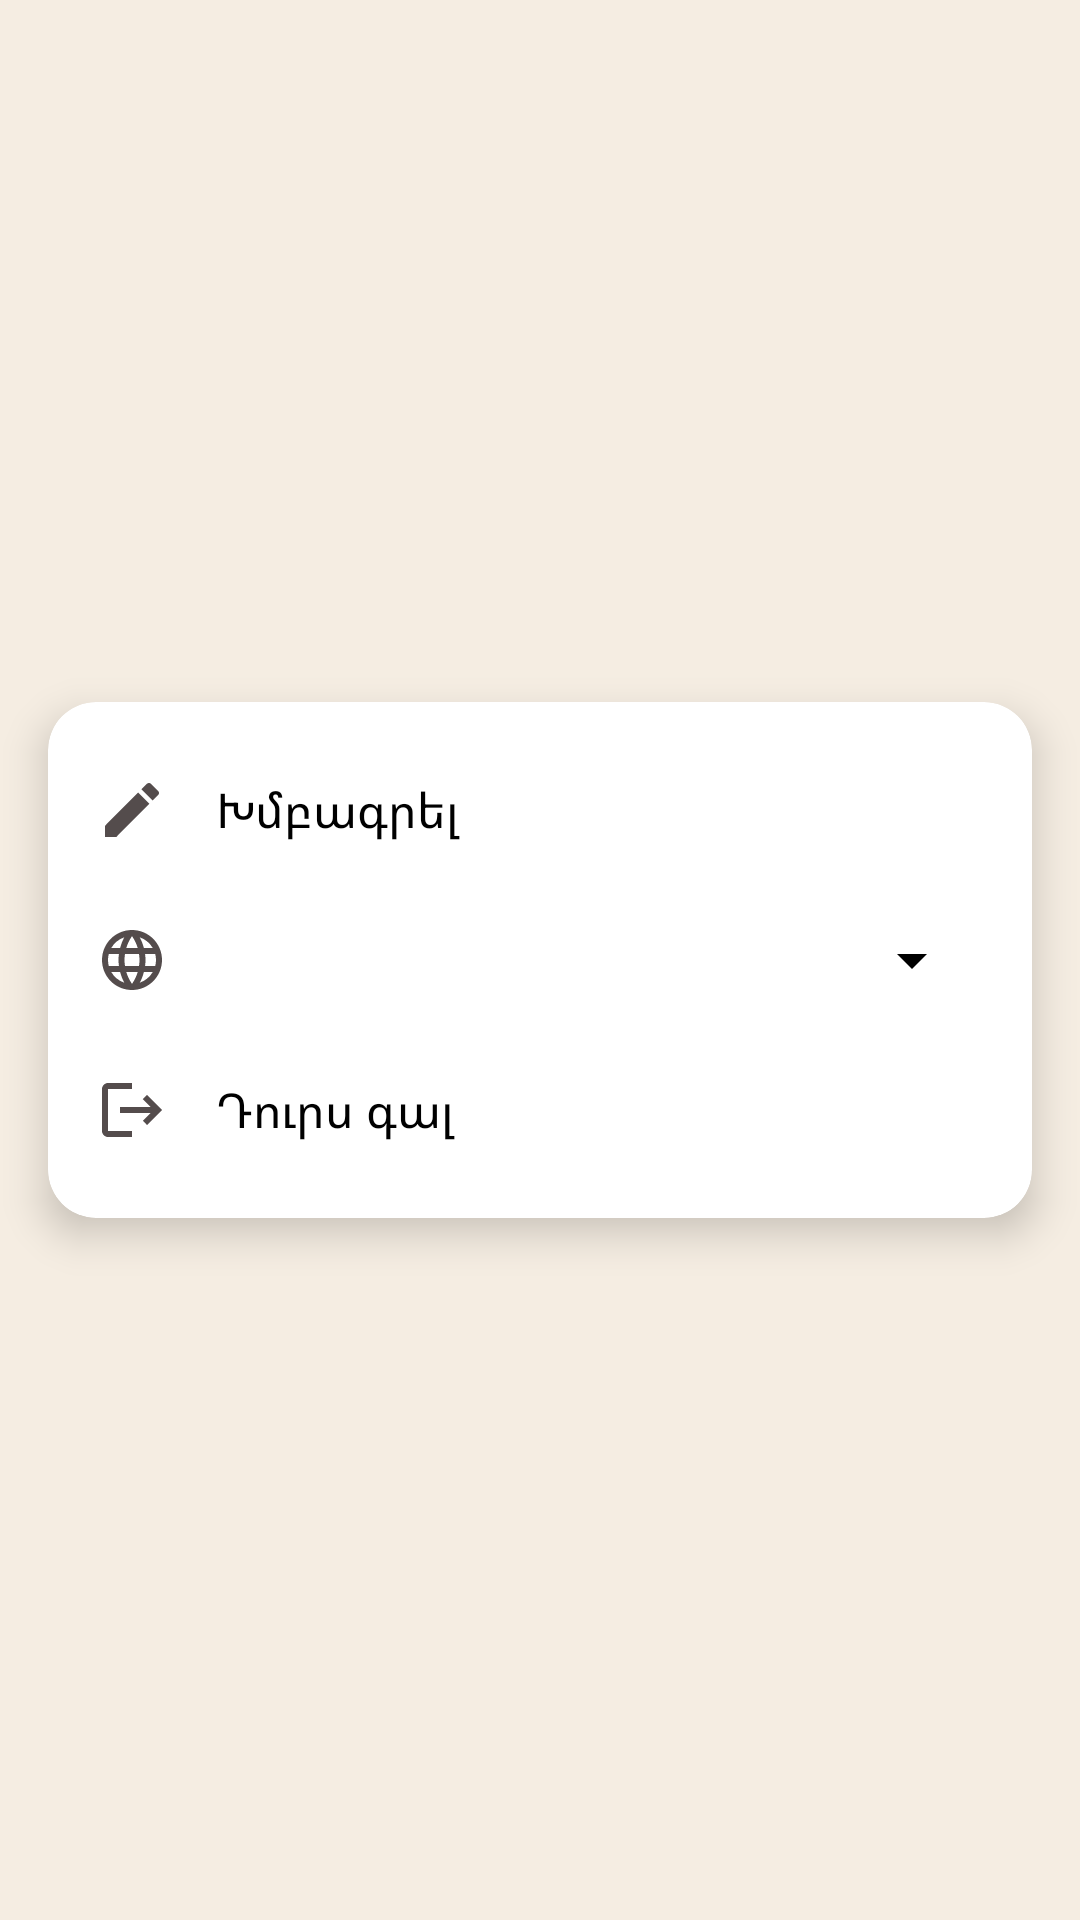

Icon bounding boxes for this 1080*1920 phone screenshot, format (x1, y1, x2, y2):
edit: (105, 783, 159, 837)
language: (102, 930, 162, 990)
